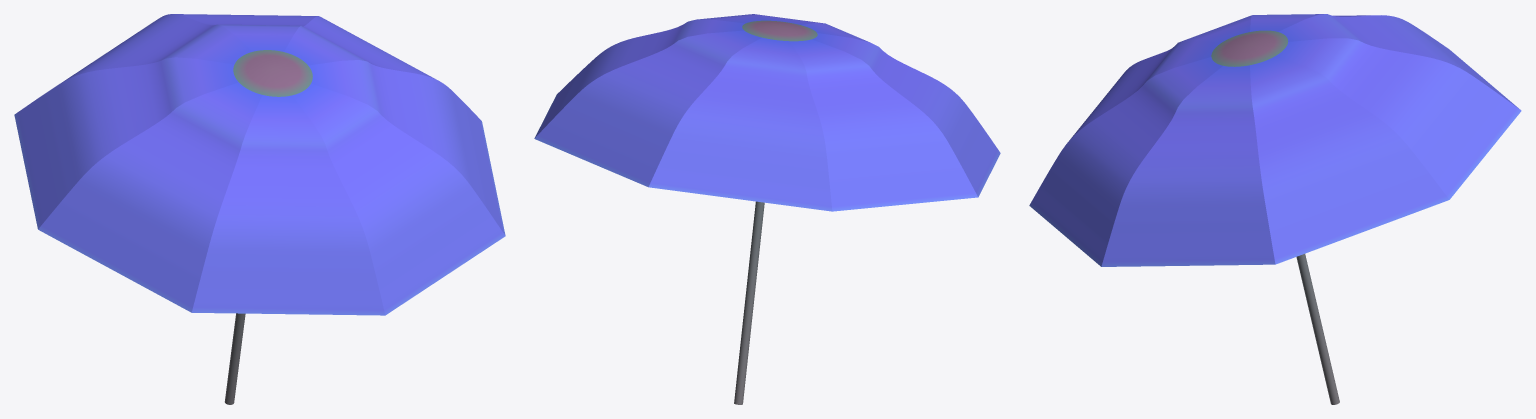
3 views of the same model, side by side, from view 1: azimuth 30°, elevation 25°; view 2: azimuth 150°, elevation 25°; view 3: azimuth 270°, elevation 25° (orthographic). The views are drawn at different scales.
Visible parts, largest first — view 1: canopy, cap, shaft; view 2: canopy, shaft, cap; view 3: canopy, cap, shaft.
Boxes of the visible parts, bbox=[...] form: canopy: bbox=[14, 14, 505, 315]; cap: bbox=[233, 50, 312, 96]; shaft: bbox=[224, 313, 245, 404]; canopy: bbox=[534, 14, 1000, 211]; shaft: bbox=[734, 201, 764, 404]; cap: bbox=[742, 20, 817, 41]; canopy: bbox=[1029, 14, 1521, 266]; cap: bbox=[1211, 30, 1288, 66]; shaft: bbox=[1296, 254, 1339, 404].
Bounding box in the file's own units: 2 × 1.6 × 1.96.
